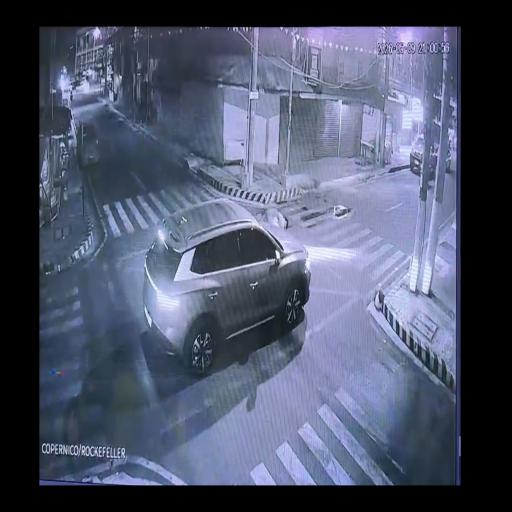Car: (148, 209, 306, 346)
Minor Accident: (148, 206, 307, 349)
Motor: (254, 207, 290, 235)
